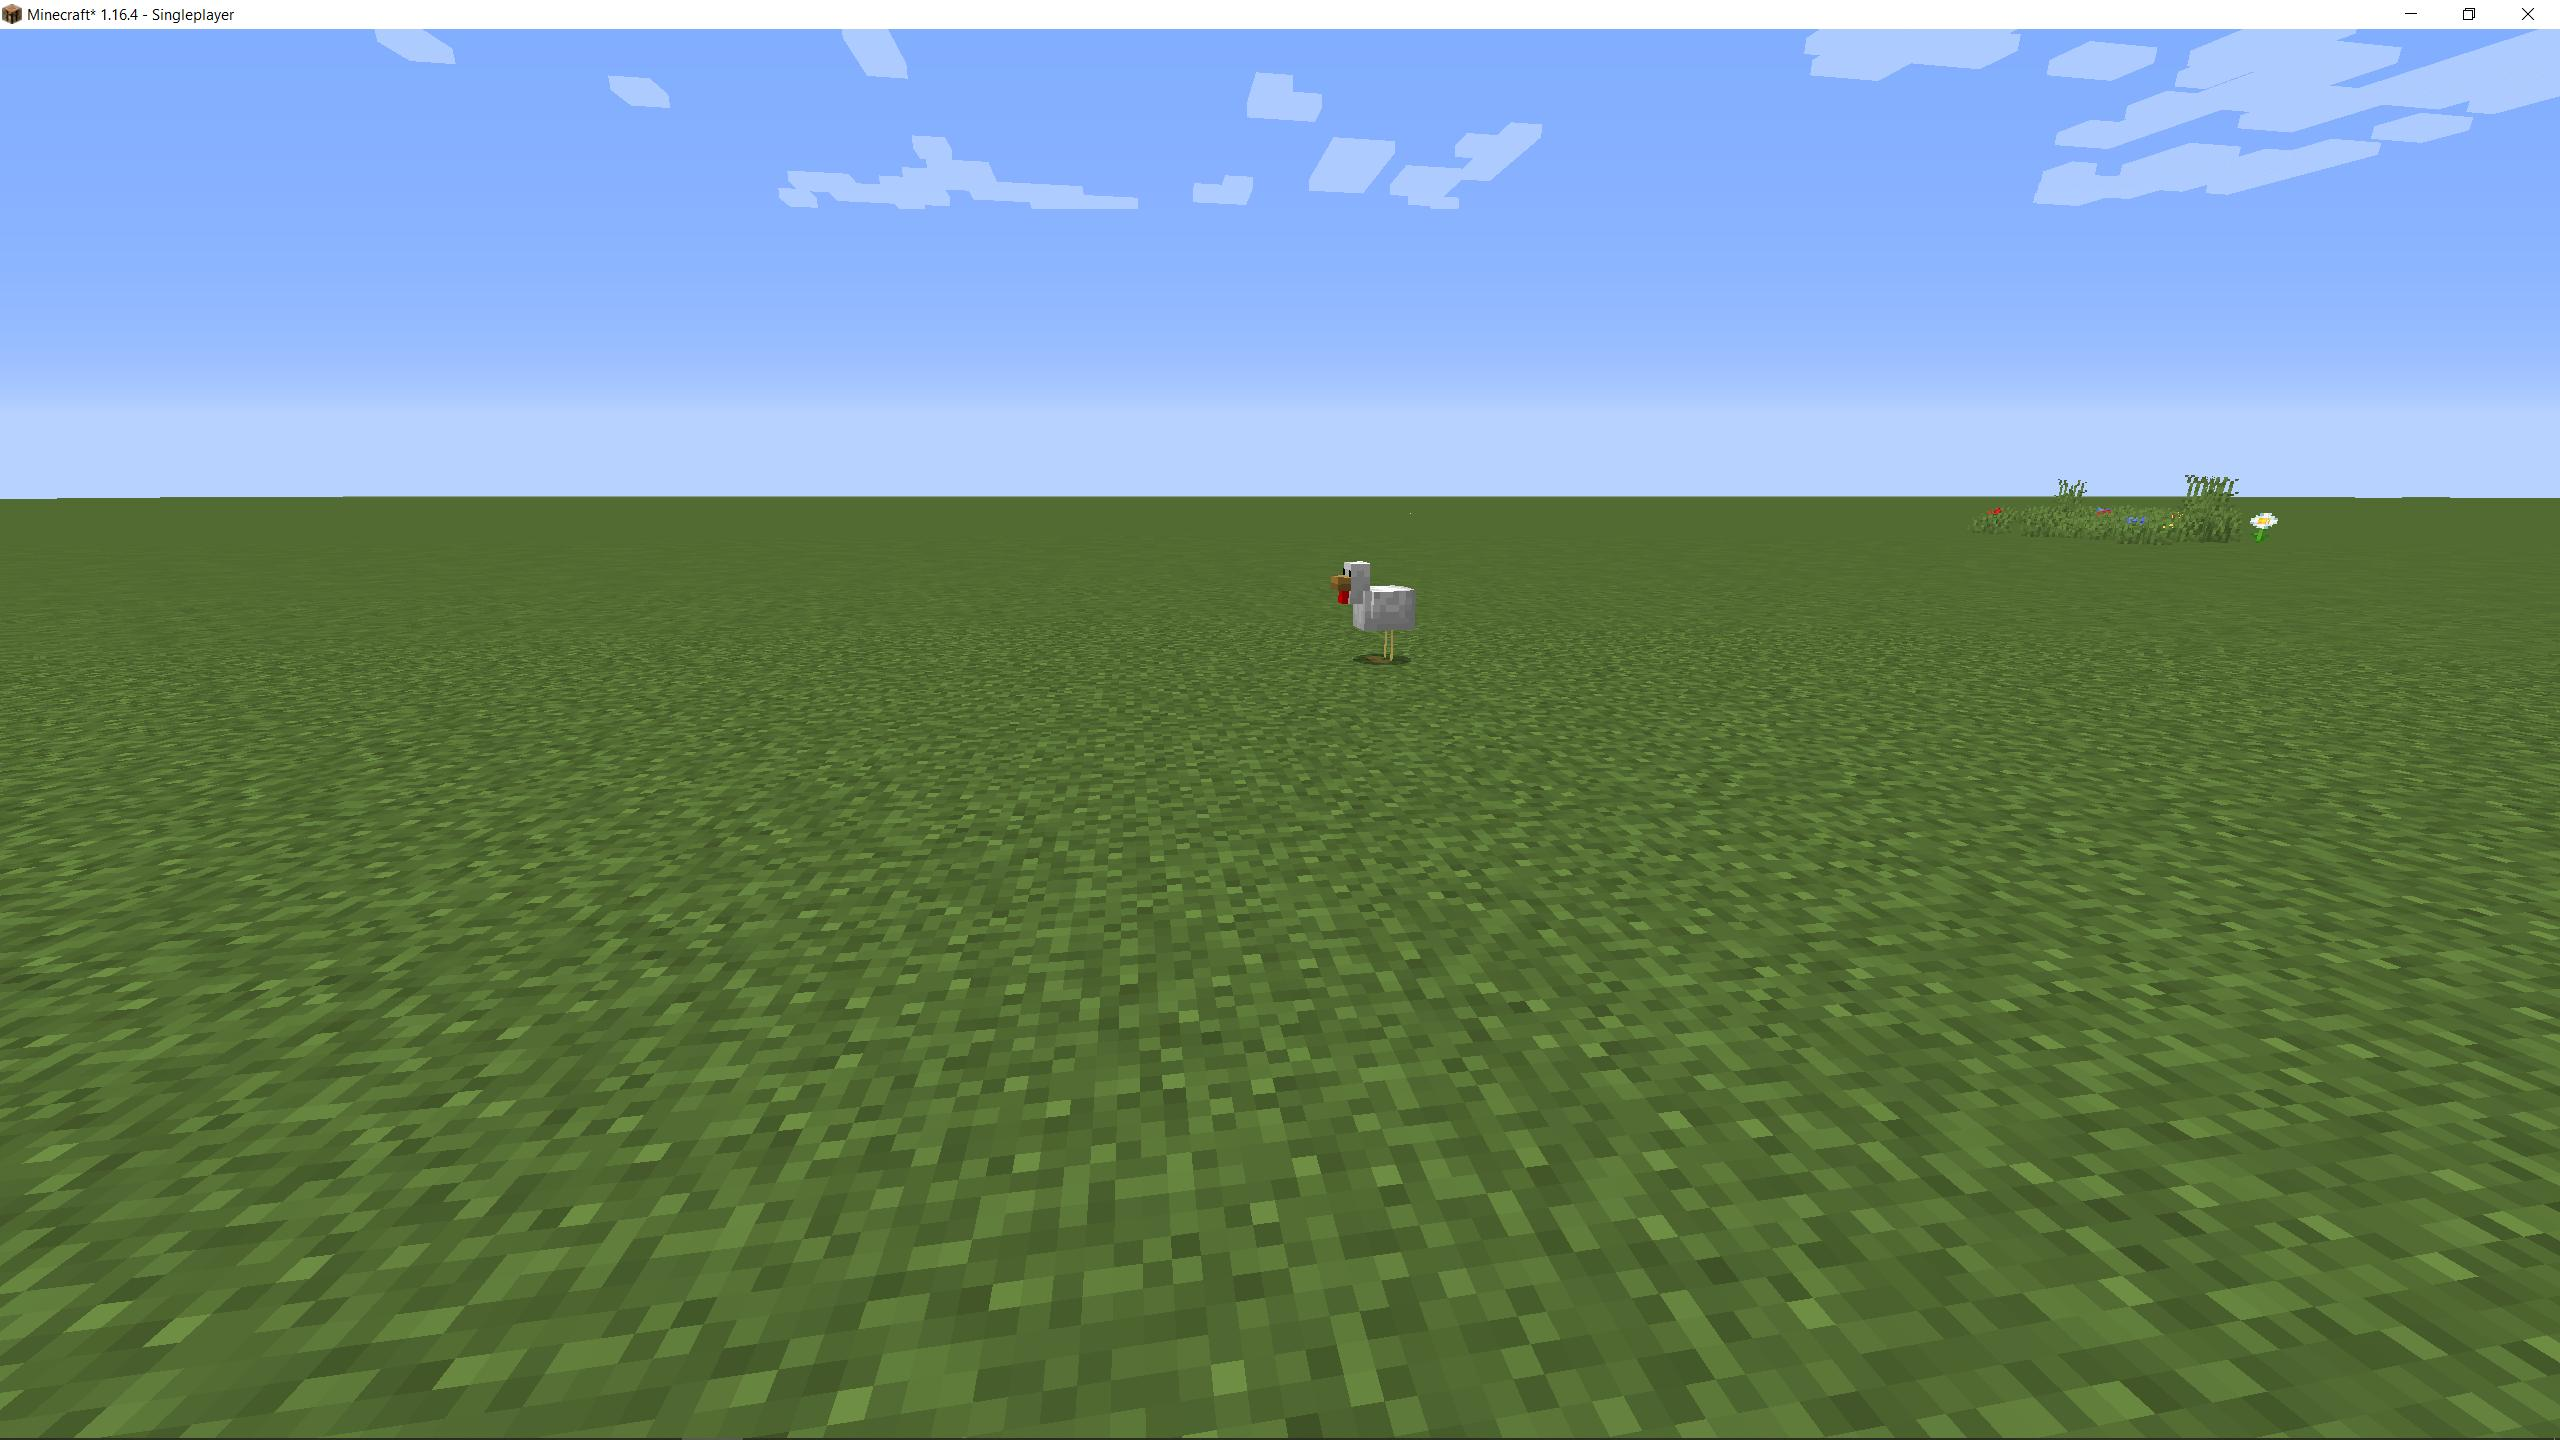chicken: (1320, 556, 1424, 675)
